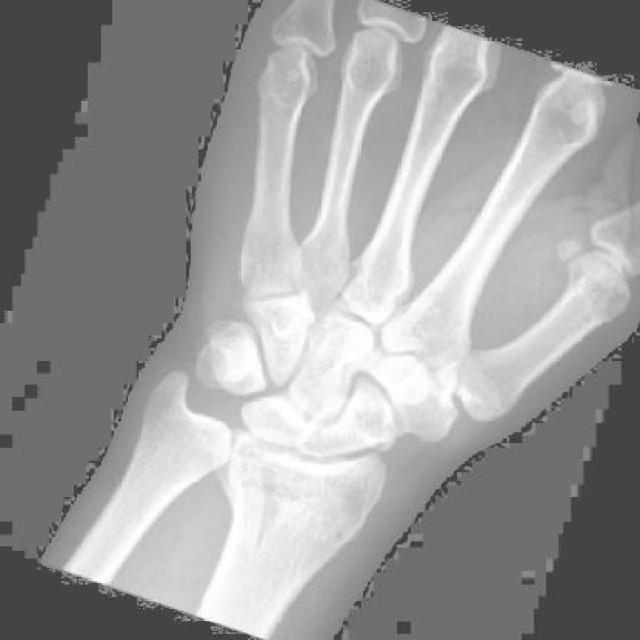Fracture: (203, 437, 389, 565)
